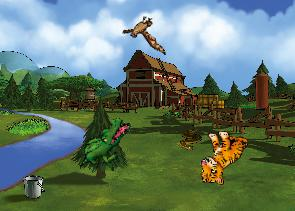crocodile: (77, 109, 132, 178)
eagle: (119, 12, 171, 55)
tiger: (198, 128, 248, 186)
